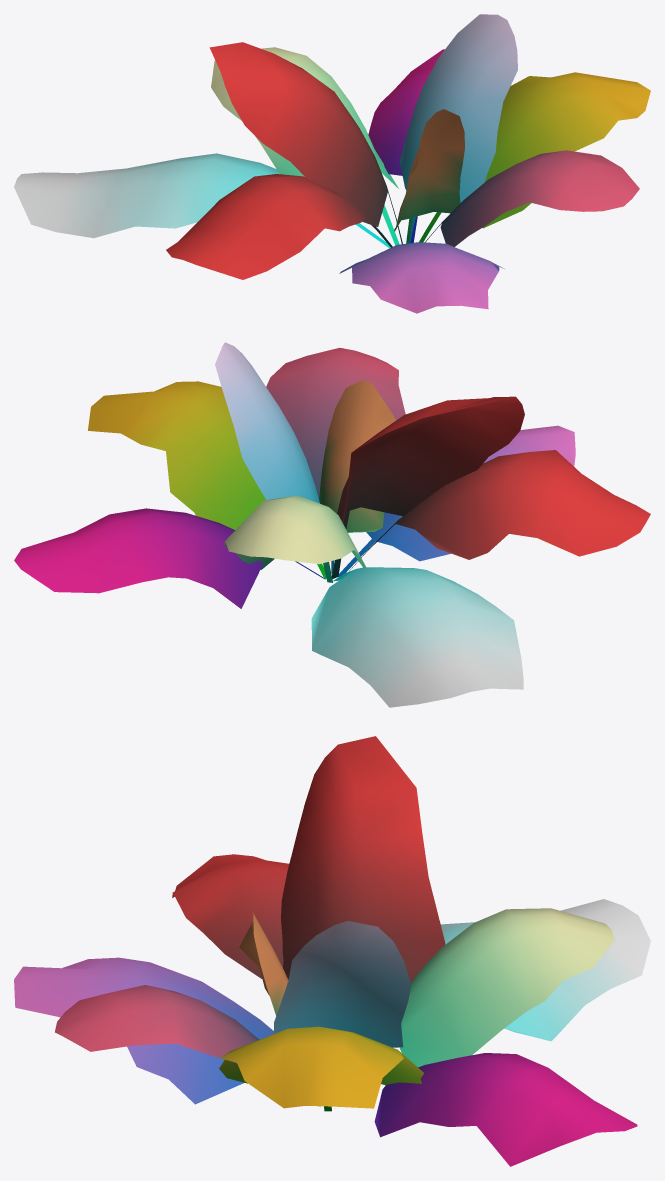
The model's file is Tropical_Palm_rkqjj_Low_rkqjj_VarB_LOD1.fbx.
3 renders of one model, top to bottom at view 1: azimuth 30°, elevation 25°; view 2: azimuth 150°, elevation 25°; view 3: azimuth 270°, elevation 25°, orthographic. The views are drawn at different scales.
Visible parts, largest first — view 1: _36a0_VarB_LOD3; view 2: _36a0_VarB_LOD3; view 3: _36a0_VarB_LOD3.
Boxes of the visible parts, x1,y1,x2,y2 form: _36a0_VarB_LOD3: (14, 14, 650, 313); _36a0_VarB_LOD3: (14, 342, 650, 707); _36a0_VarB_LOD3: (14, 736, 650, 1166).
Size of the model in its own units: 258 by 114 by 241.
